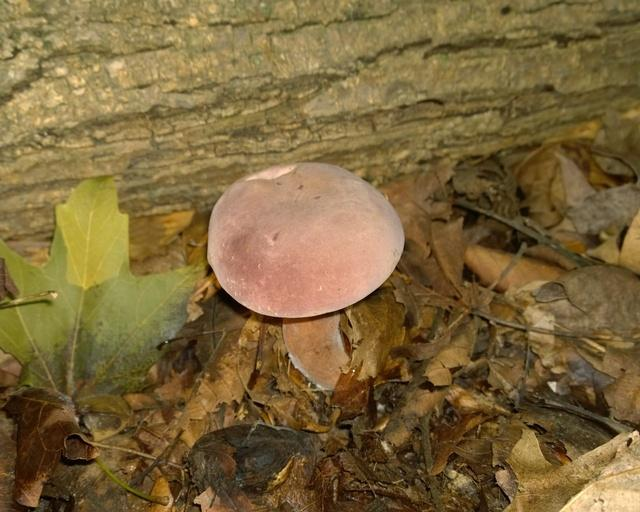Non-edible Mushroom: (205, 160, 406, 392)
